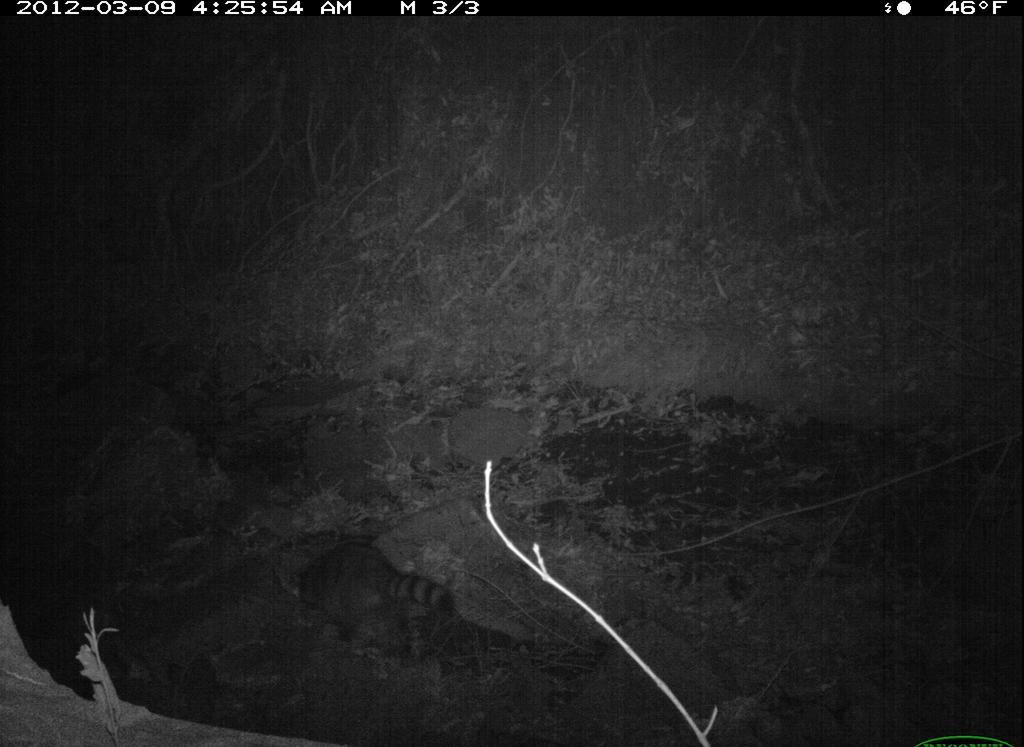raccoon: (276, 534, 464, 661)
